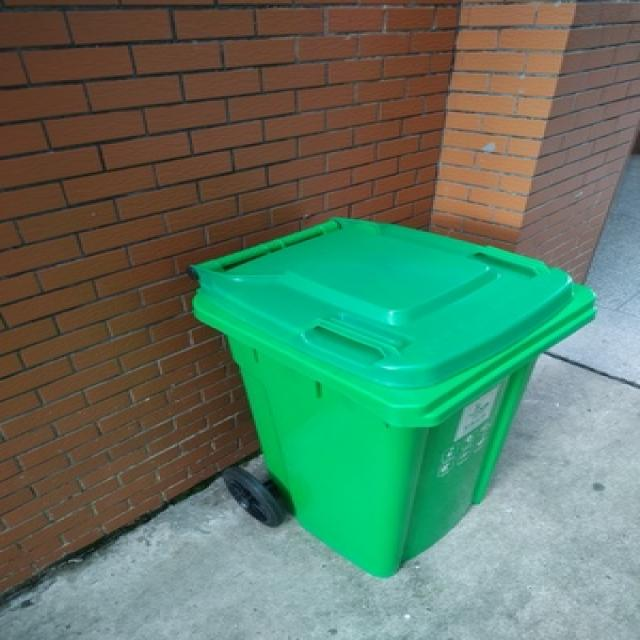ash bin: (182, 216, 598, 579)
